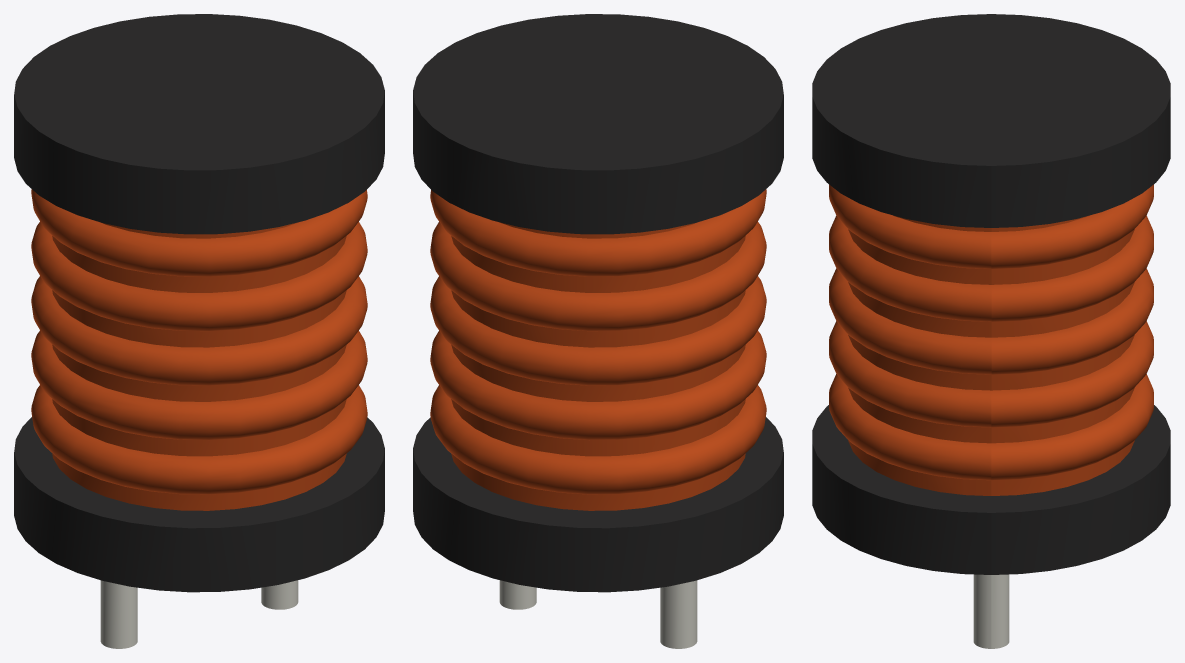
The model's file is kc-l_radial_d10.0mm_p5.00mm_fastron_07m.glb.
3 renders of one model, left to right at view 1: azimuth 30°, elevation 25°; view 2: azimuth 150°, elevation 25°; view 3: azimuth 270°, elevation 25°, orthographic. The views are drawn at different scales.
Parts seen in each view (by area): view 1: 0_0_0_0, 0.4166666666666667_0.08333333333333333_0_0, 0.6666666666666666_0.6666666666666666_0.5833333333333334_0.8; view 2: 0_0_0_0, 0.4166666666666667_0.08333333333333333_0_0, 0.6666666666666666_0.6666666666666666_0.5833333333333334_0.8; view 3: 0_0_0_0, 0.4166666666666667_0.08333333333333333_0_0, 0.6666666666666666_0.6666666666666666_0.5833333333333334_0.8.
Boxes of the visible parts, x1,y1,x2,y2 form: 0_0_0_0: (14, 14, 384, 592); 0.4166666666666667_0.08333333333333333_0_0: (31, 189, 367, 510); 0.6666666666666666_0.6666666666666666_0.5833333333333334_0.8: (100, 580, 298, 648); 0_0_0_0: (413, 14, 783, 592); 0.4166666666666667_0.08333333333333333_0_0: (430, 189, 766, 510); 0.6666666666666666_0.6666666666666666_0.5833333333333334_0.8: (499, 580, 697, 648); 0_0_0_0: (812, 14, 1170, 574); 0.4166666666666667_0.08333333333333333_0_0: (829, 184, 1153, 495); 0.6666666666666666_0.6666666666666666_0.5833333333333334_0.8: (973, 574, 1009, 648).
Bounding box in the file's own units: 1 × 1.58 × 0.9967.
